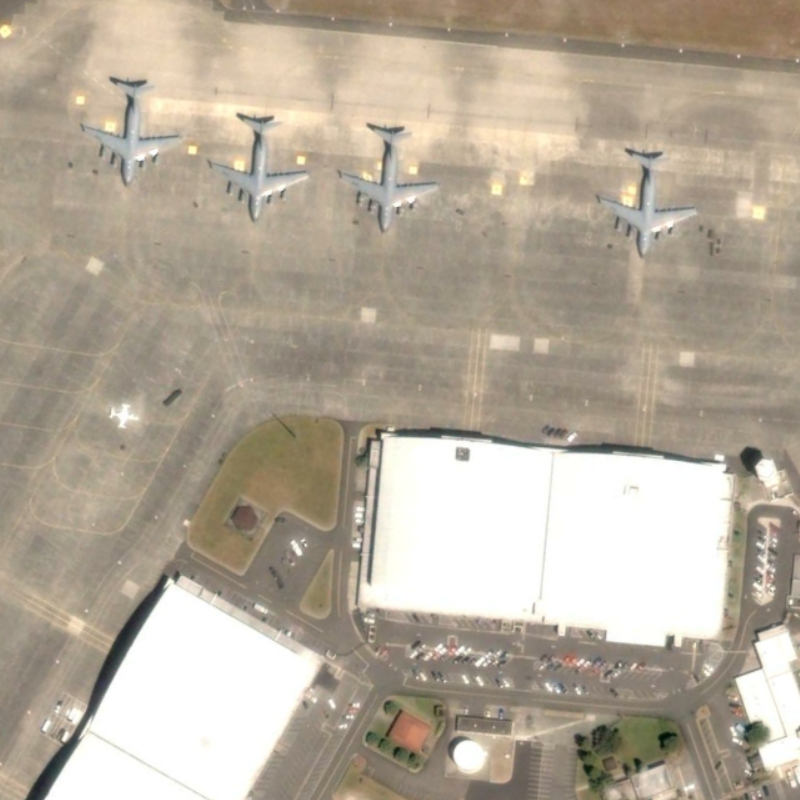A3: (74, 69, 189, 193), (594, 143, 702, 266), (333, 117, 443, 236), (208, 108, 313, 228)
